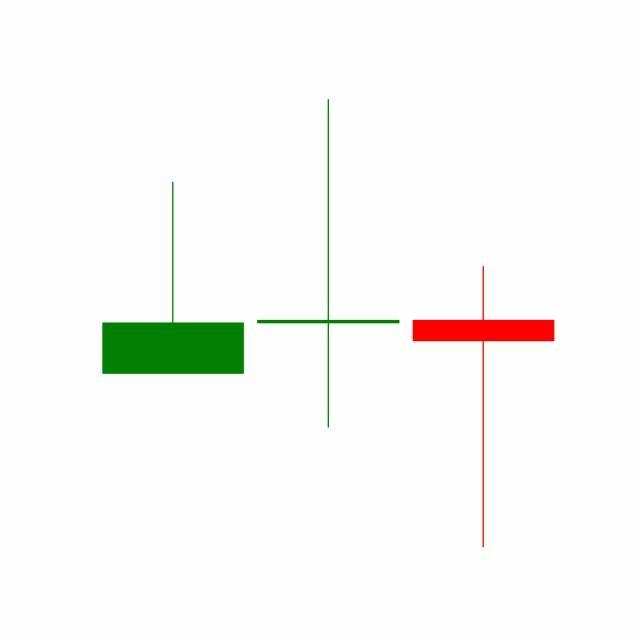Spinning Top: (406, 263, 562, 551)
